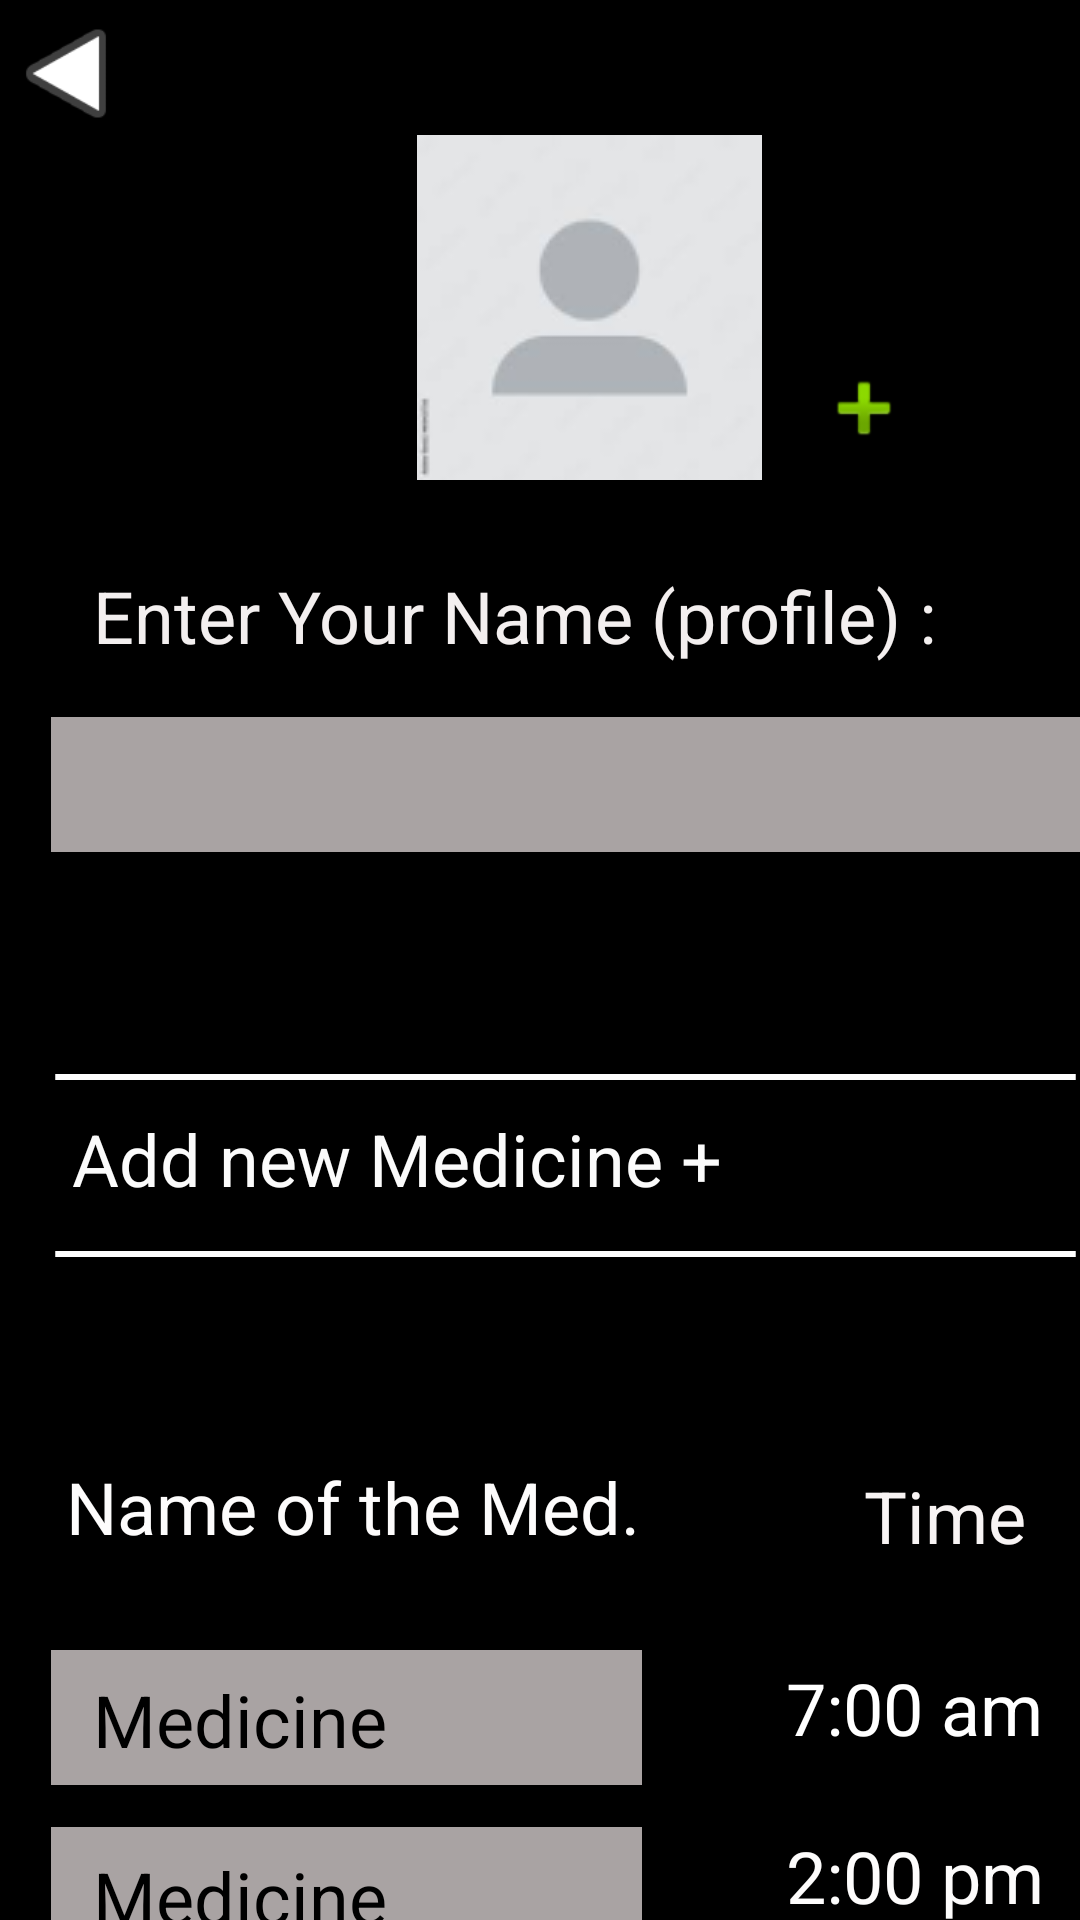

Icon bounding boxes for this 1080px×1920px phone screenshot, format [x1, y1, x2, y2]:
Add med: [837, 381, 891, 435]
